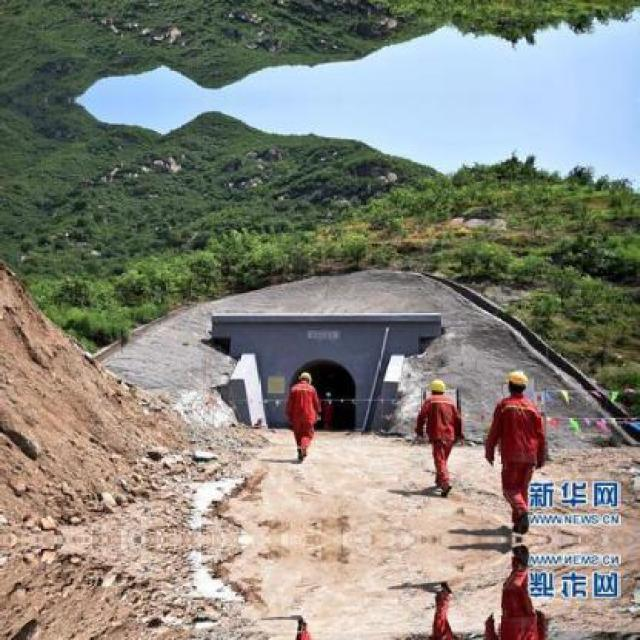helmet: (502, 368, 532, 398), (426, 374, 448, 396), (297, 367, 315, 387)
